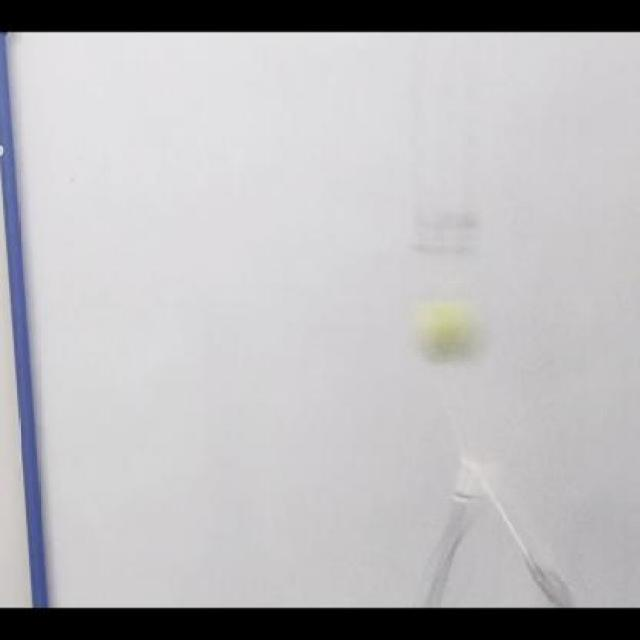baseball: (413, 288, 475, 364)
